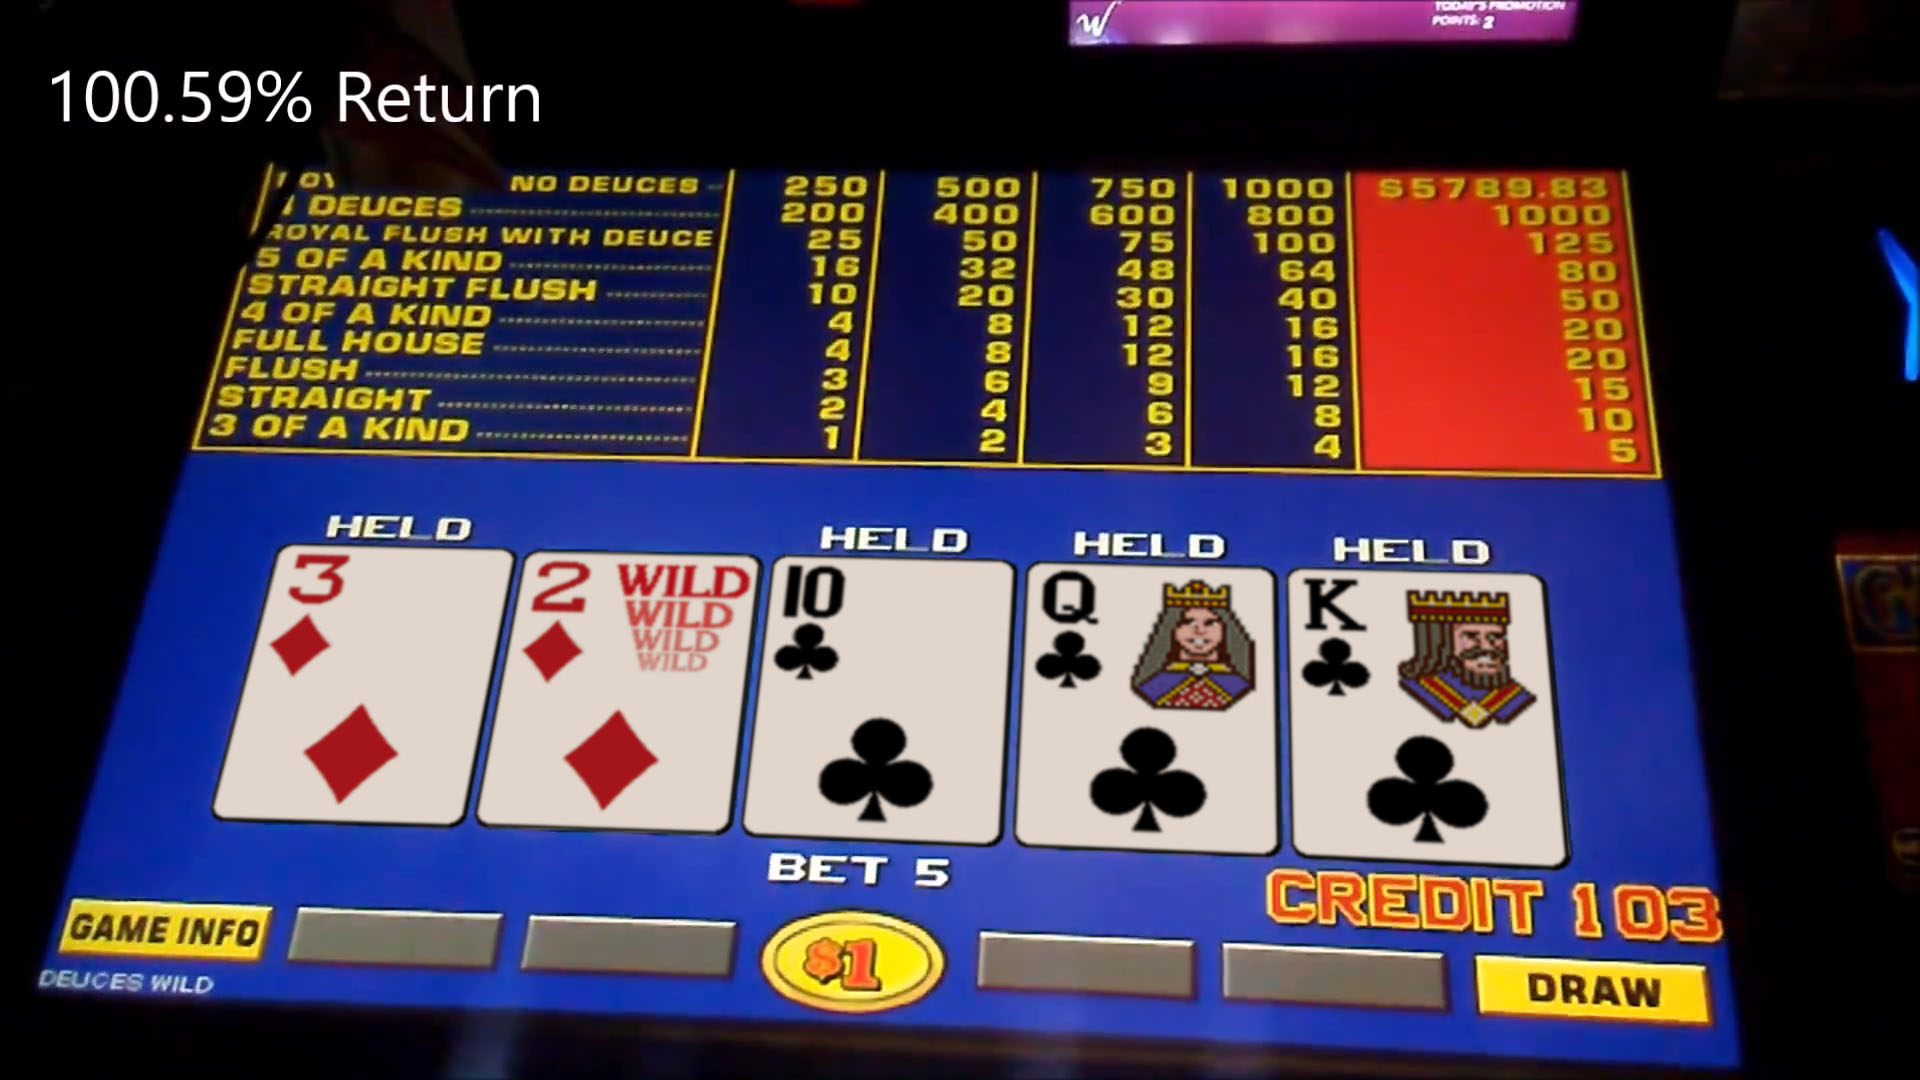CK: (1294, 575, 1540, 707)
CQ: (1027, 566, 1270, 704)
CT: (771, 558, 1007, 696)
D2W: (520, 553, 745, 688)
D3: (265, 549, 491, 684)
